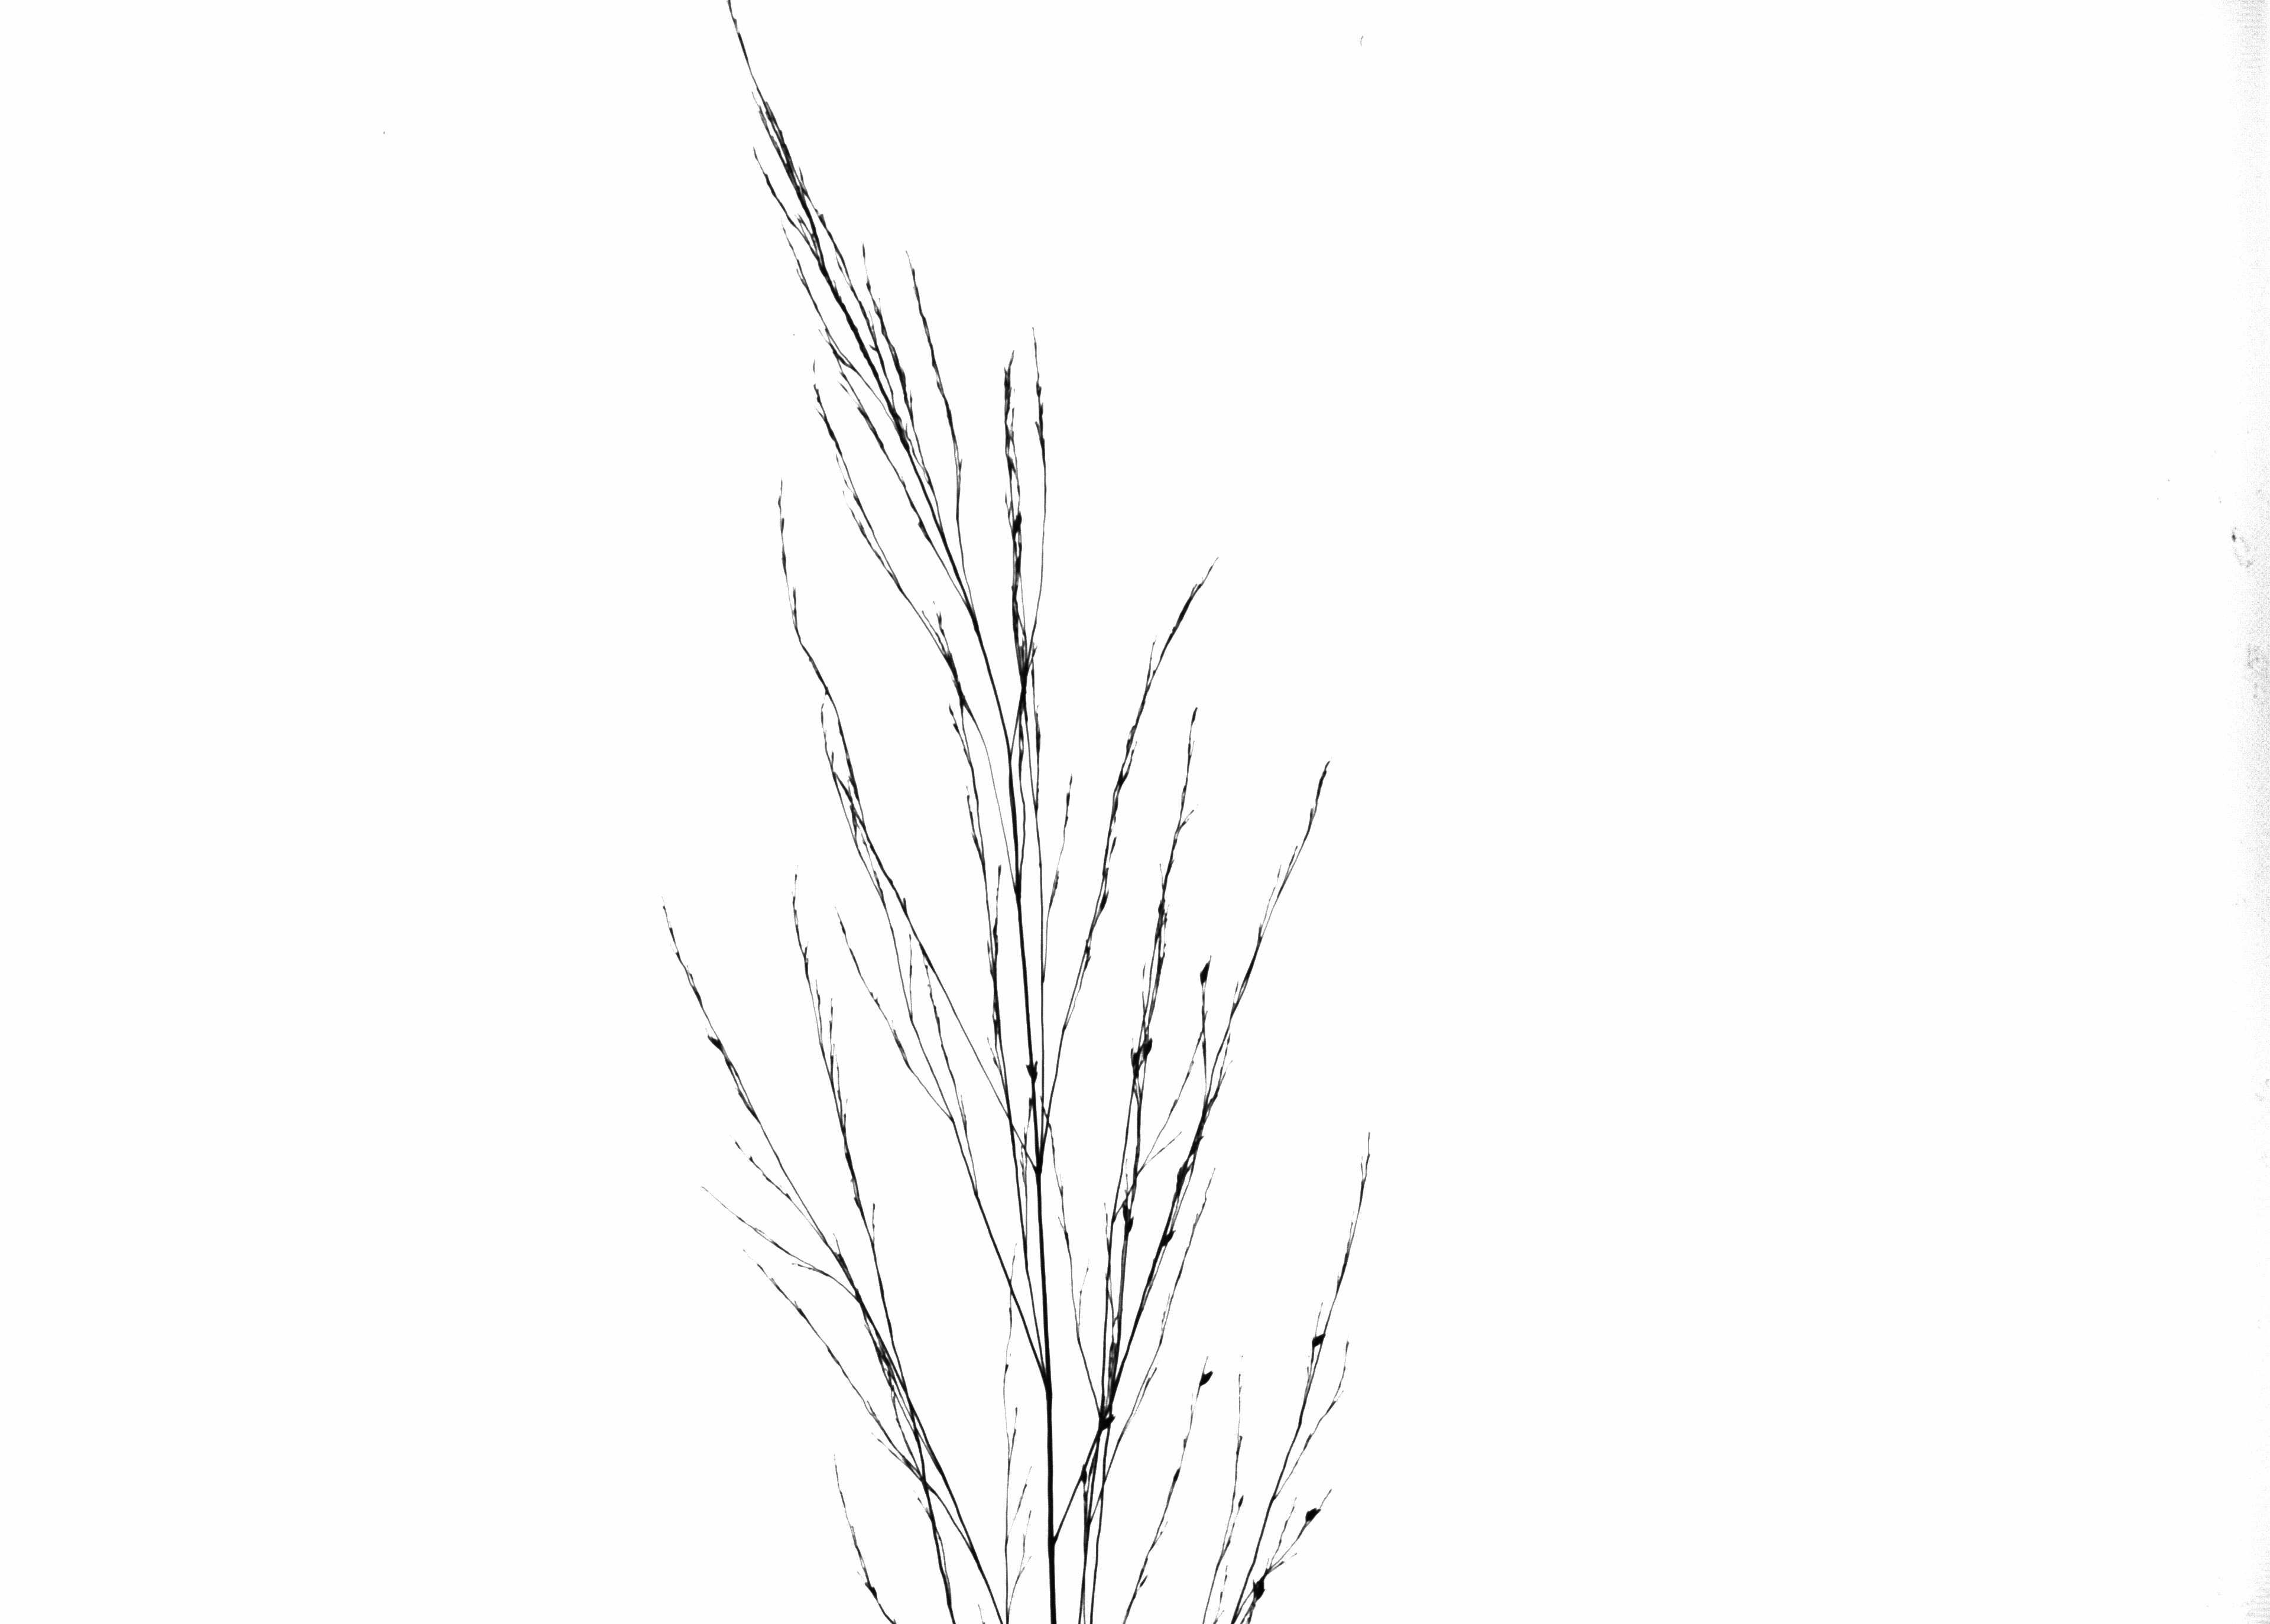seed: (1196, 953, 1217, 993), (702, 1030, 726, 1053), (1125, 1048, 1143, 1076), (1196, 1367, 1217, 1390), (1308, 1330, 1331, 1352), (1303, 1501, 1322, 1526), (1141, 1035, 1157, 1062), (1097, 1413, 1118, 1432), (1023, 1056, 1041, 1079)
